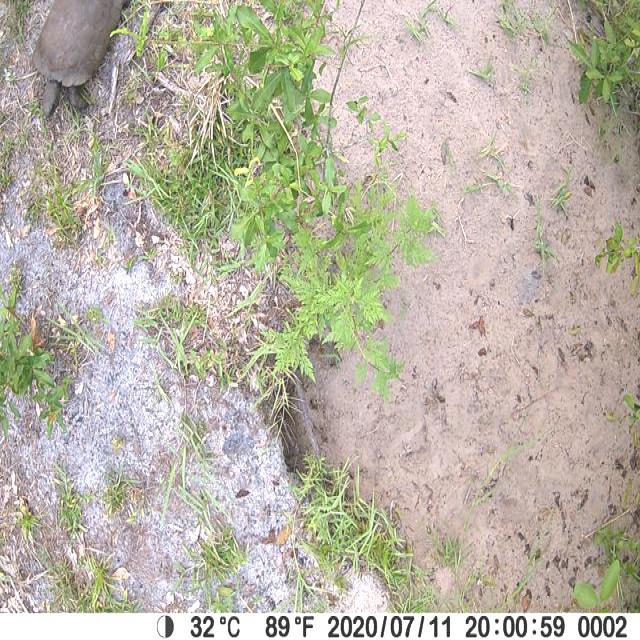tortoise: (29, 0, 133, 116)
